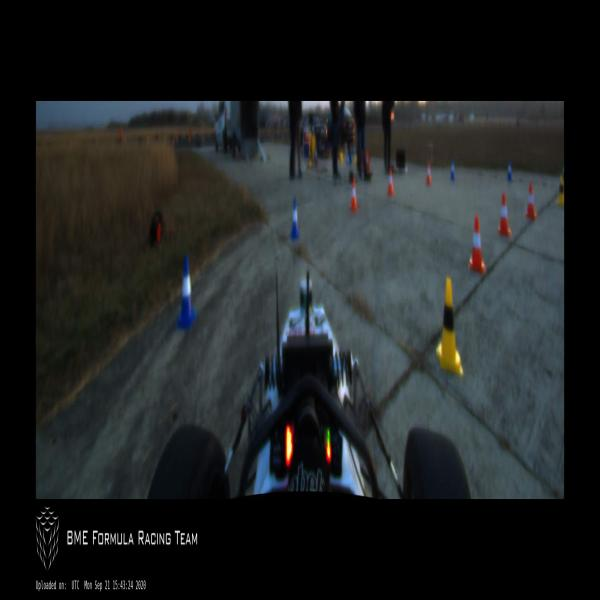blue_cone: (175, 260, 197, 328), (289, 197, 301, 241), (506, 158, 512, 182), (450, 160, 455, 180)
orange_cone: (469, 216, 485, 272), (498, 193, 511, 237), (526, 185, 538, 219), (349, 179, 357, 212), (387, 168, 394, 198), (426, 160, 432, 186)
yellow_cone: (437, 279, 461, 373), (557, 175, 564, 206)
